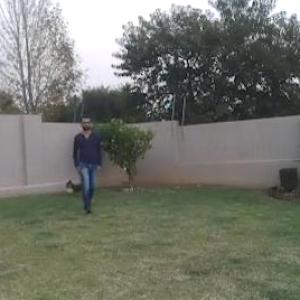follow: (74, 113, 103, 213)
